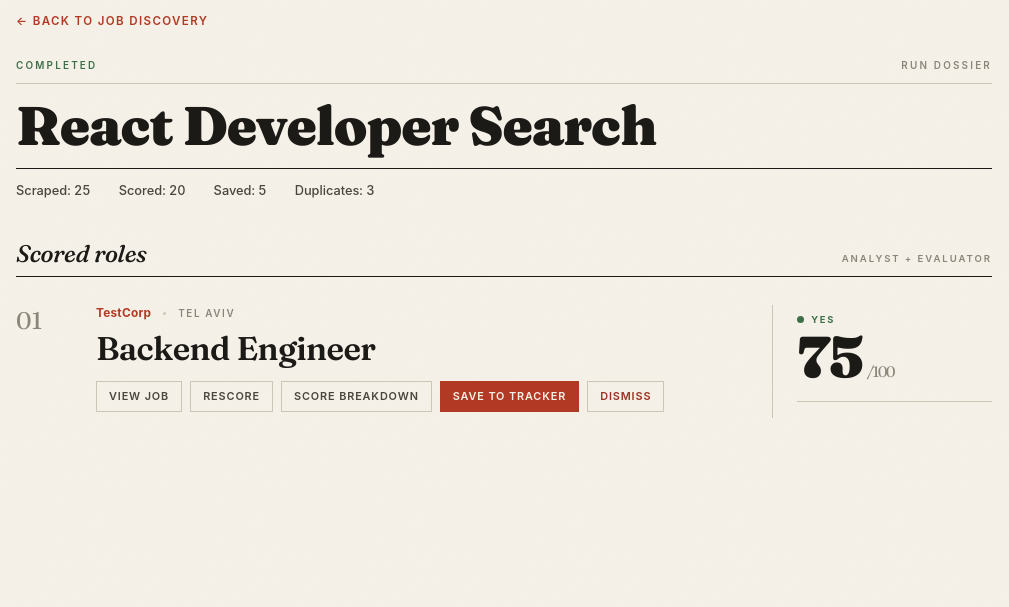
RunDetailPage - Signals (green/red flags) in breakdown panel › hides flags on the card until the Score Breakdown panel is opened
The image size is (1009, 607).
Expected: the text "Excellent tech stack" is not shown
What coordinates should you click on to do the following:
click the button "Score Breakdown"
I would click on:
 (356, 396)
Its box is [281,381,432,412].
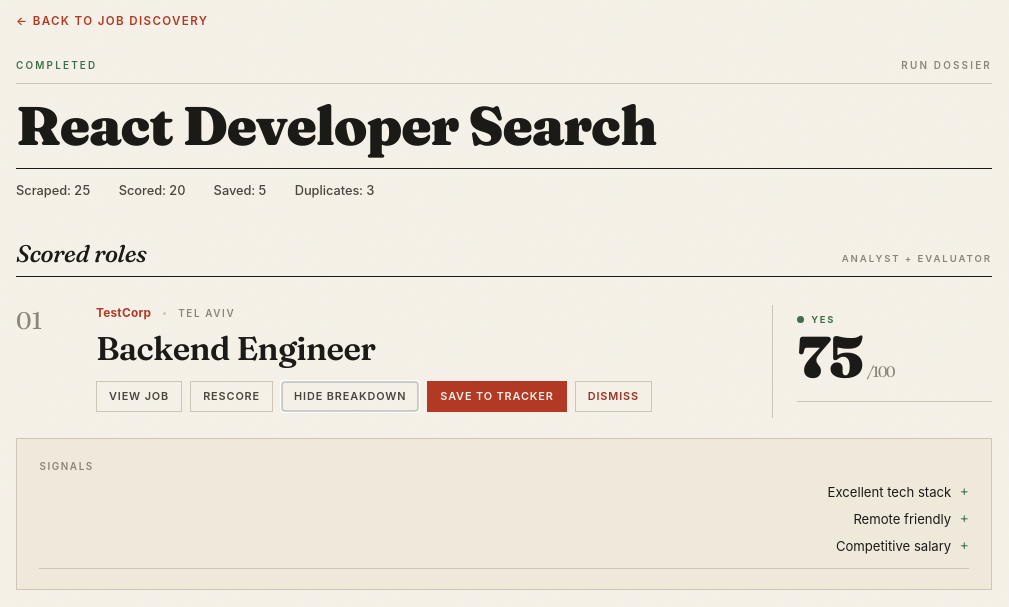
Result: the text "Excellent tech stack" is shown at [828,483,951,503]
Result: the text "Remote friendly" is shown at [853,510,951,530]
Result: the text "Competitive salary" is shown at [836,537,951,556]
